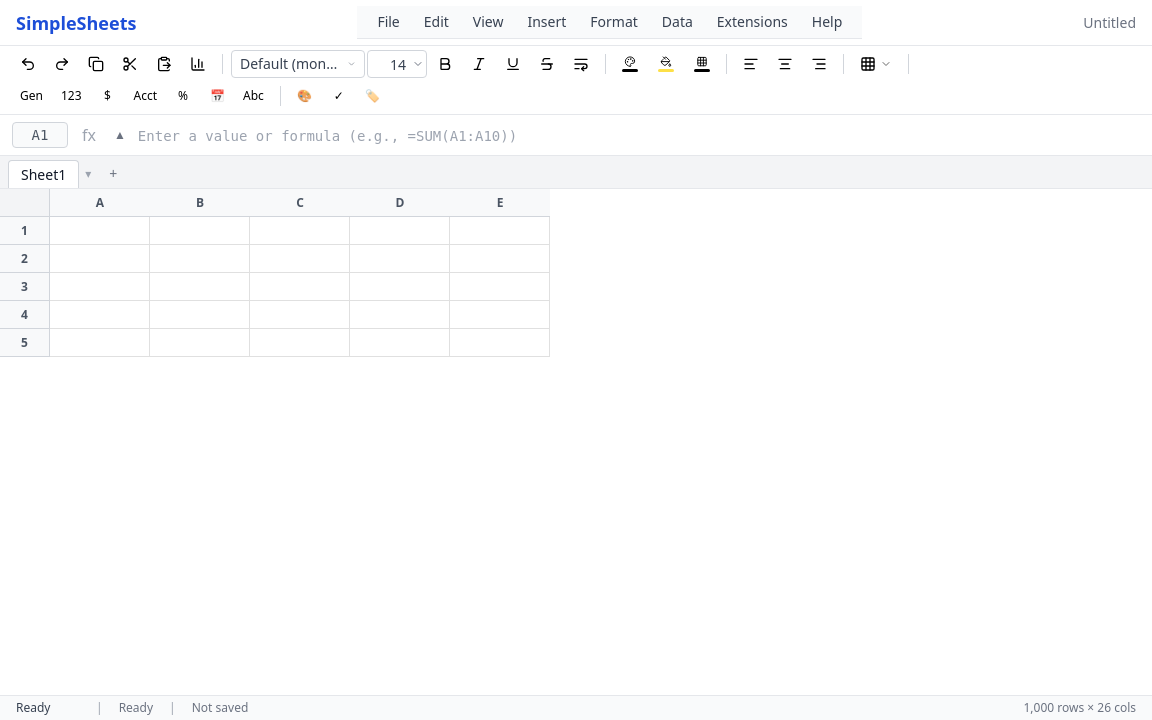
Test: App - Global Keyboard Shortcuts › handles Ctrl+Shift+Z for redo
The width and height of the screenshot is (1152, 720).
Press the mouse on the 1st element with class "grid-cell": (100, 231) [50,217,150,245]
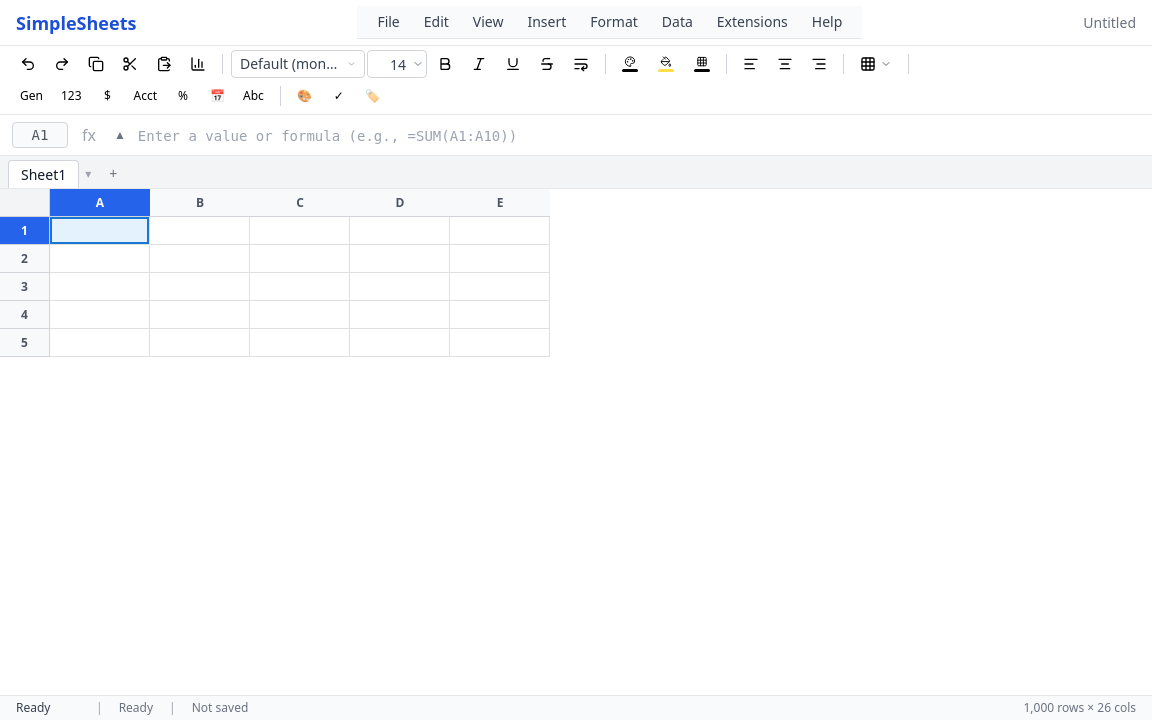
Edit a cell via FormulaBar (no double-click)
In the field with placeholder "Enter a value or formula (e.g., =SUM(A1:A10))": (639, 136) [138,126,1140,146], type "redo test"
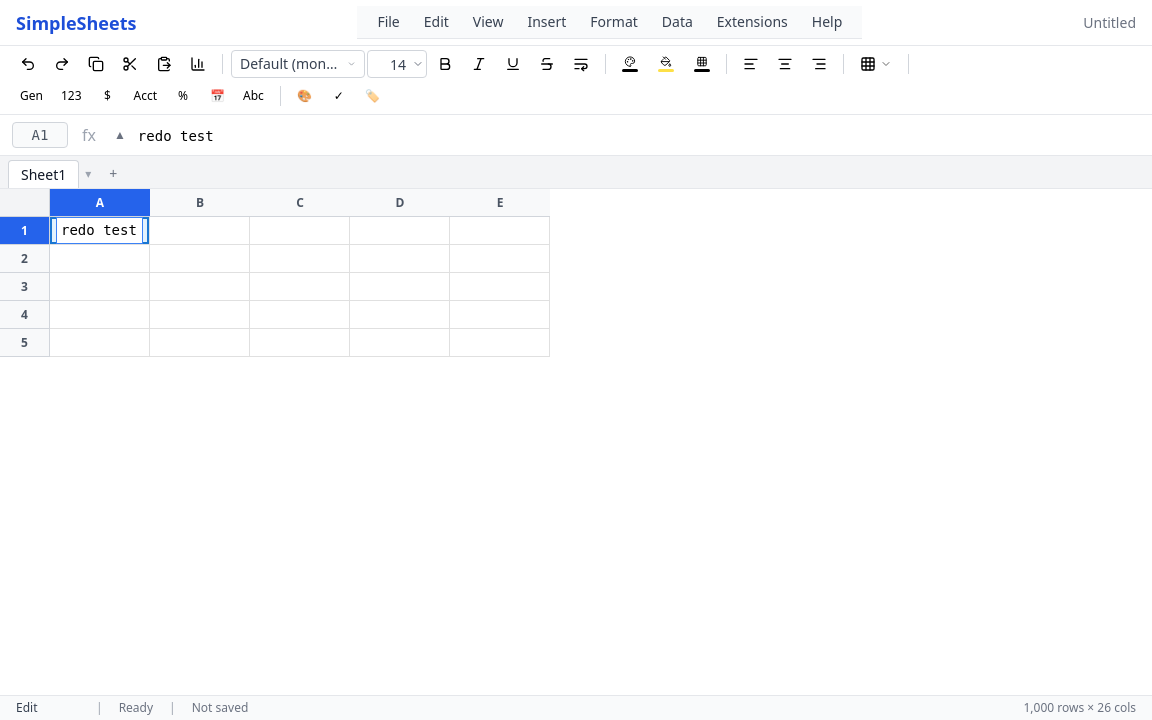
Press Enter in the 1st field with placeholder "Enter a value or formula (e.g., =SUM(A1:A10))", box [138,126,1140,146]
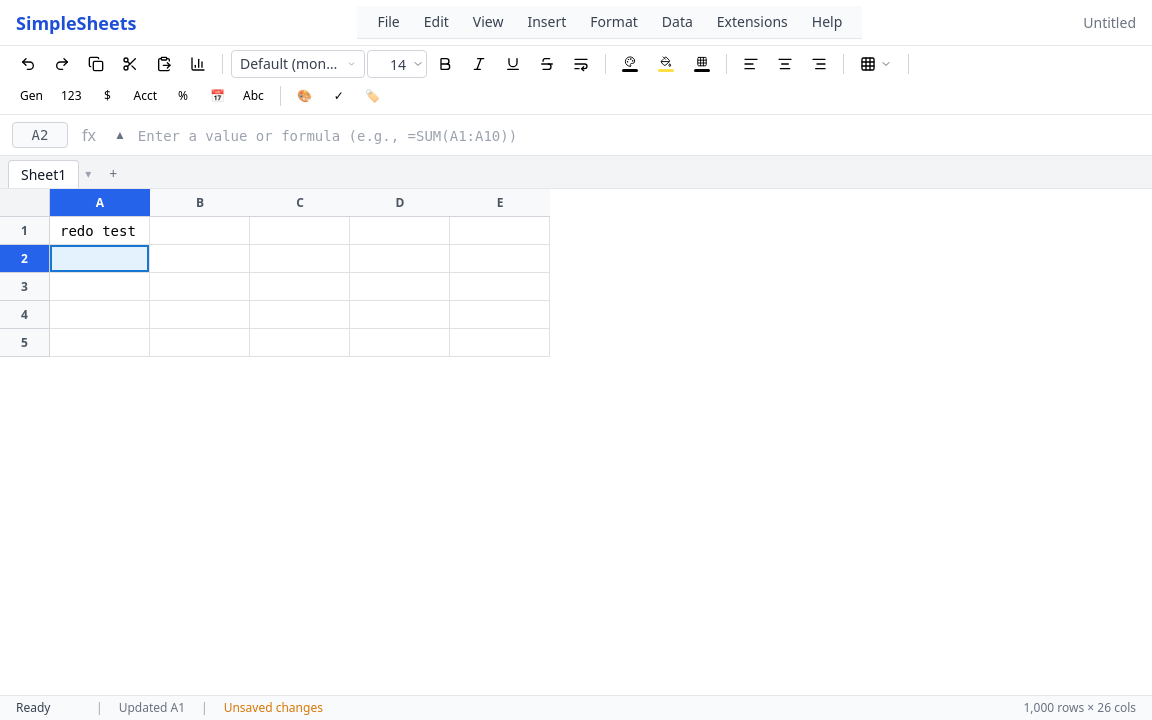
Expected: the element with class "grid-cell" reads "redo test", [60,223,136,239]
Undo via menu
Click the button "Edit": (436, 22) [412,8,461,36]
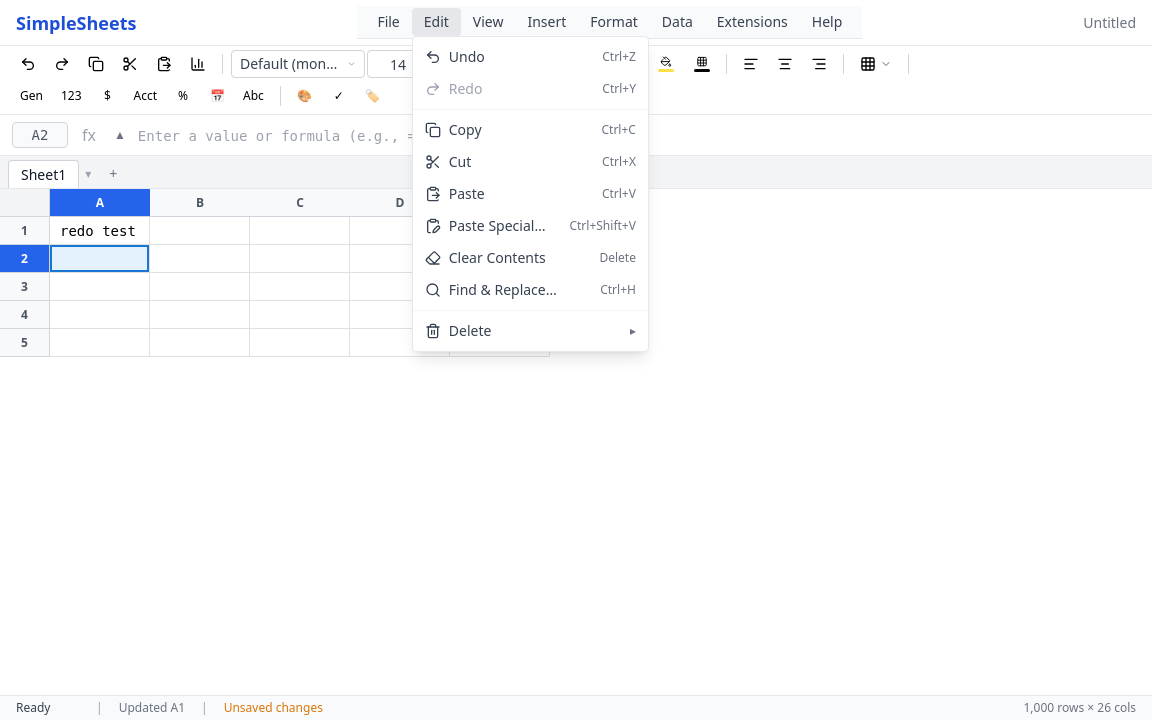
Click the menu item "Undo Ctrl+Z": (467, 56) [425,47,636,66]
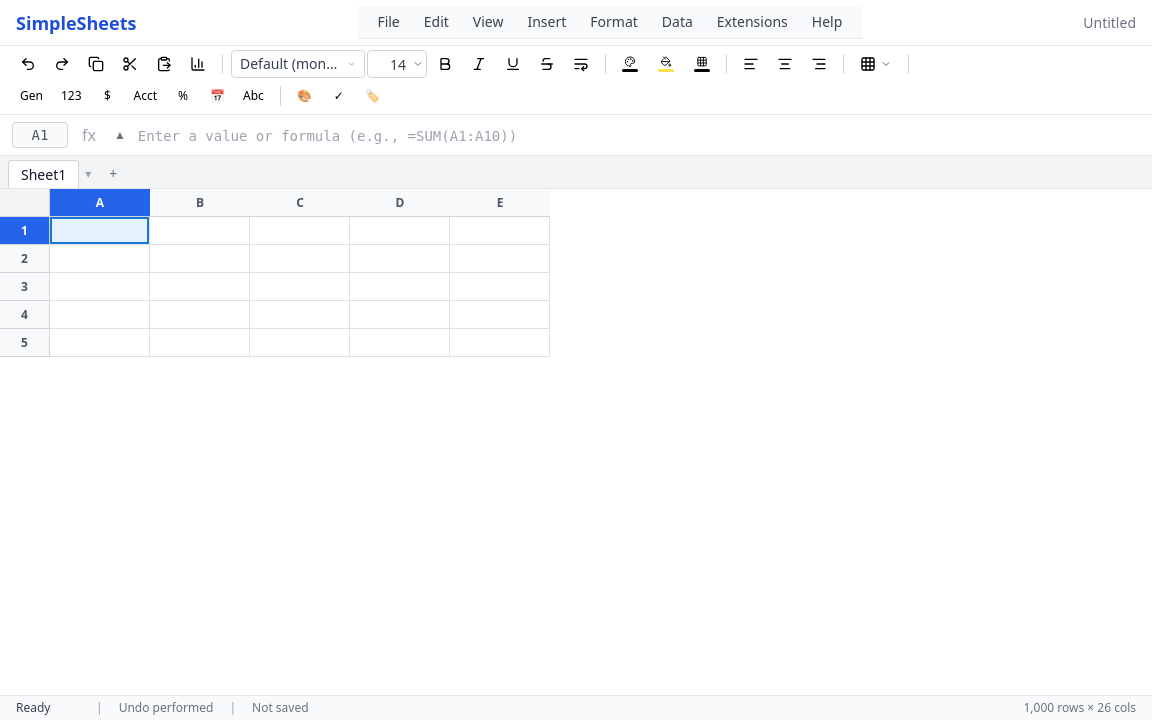
Expected: the 10th element with class "grid-cell" is empty, [50,217,150,245]
Redo via Ctrl+Shift+Z
Press Z
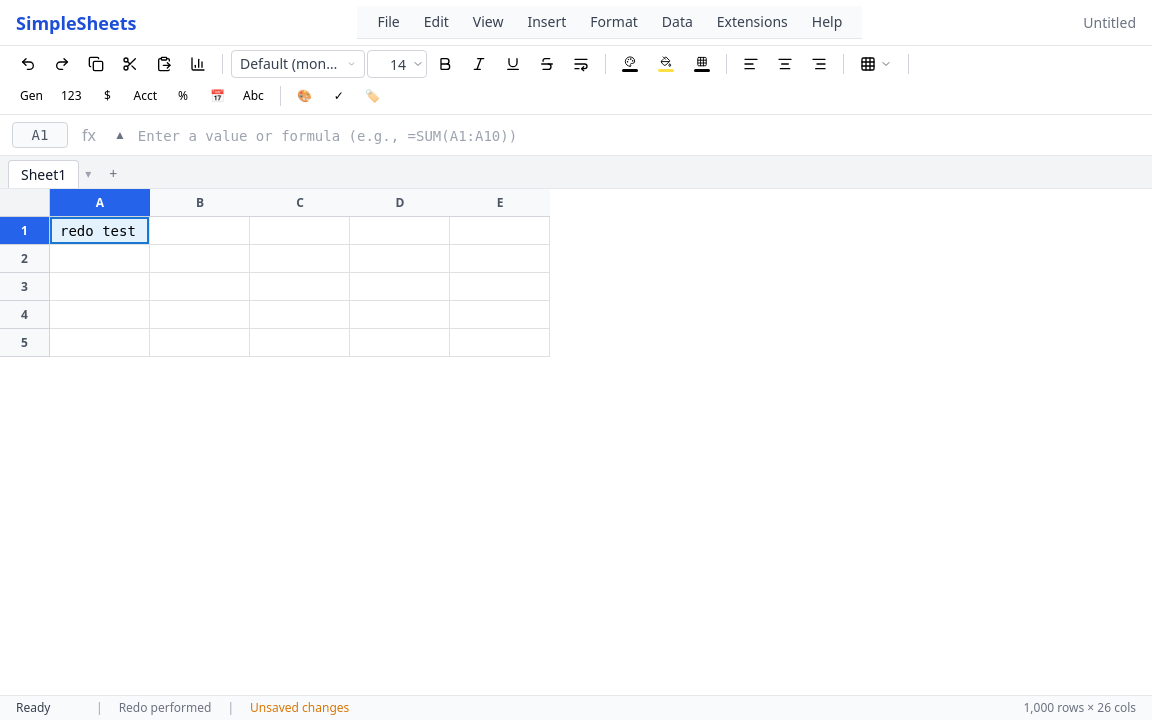
Expected: the element with class "grid-cell" reads "redo test", [60,223,136,239]
